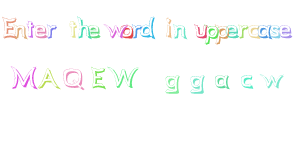A: (39, 67, 61, 90)
E: (1, 13, 18, 40), (90, 65, 107, 89)
M: (10, 64, 38, 90)
Q: (62, 67, 85, 91)
W: (108, 65, 138, 89)
a: (213, 73, 230, 89), (257, 23, 271, 40)
c: (239, 73, 255, 90), (249, 23, 260, 41)
d: (140, 15, 156, 39)
e: (278, 23, 294, 40), (87, 24, 101, 39), (225, 24, 239, 39), (34, 24, 47, 39)
g: (164, 74, 180, 95), (189, 74, 205, 95)
h: (77, 16, 91, 39)
i: (162, 17, 174, 38)
n: (172, 24, 189, 40), (14, 24, 27, 39)
o: (119, 23, 133, 38)
p: (215, 23, 229, 47), (204, 24, 219, 46)
r: (237, 23, 248, 40), (47, 23, 58, 39), (132, 24, 142, 40)
s: (269, 23, 281, 40)
t: (26, 18, 36, 38), (68, 19, 77, 38)
u: (193, 23, 208, 38)
w: (260, 73, 284, 89), (104, 22, 124, 38)
